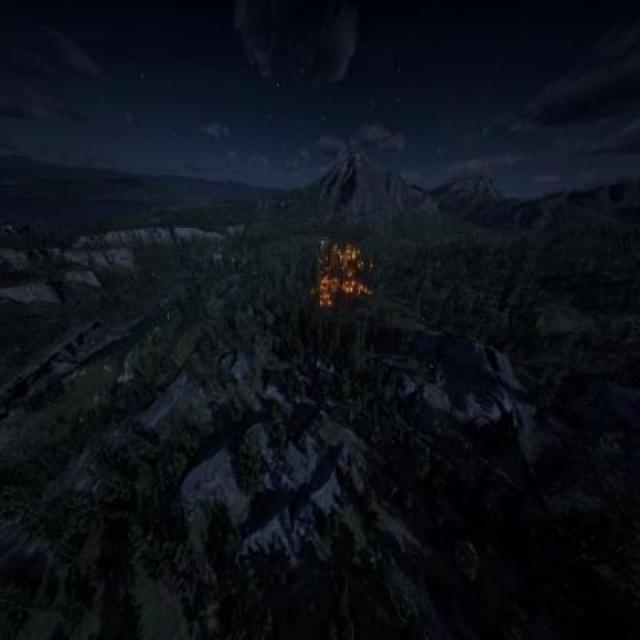Fire: (302, 226, 388, 312)
